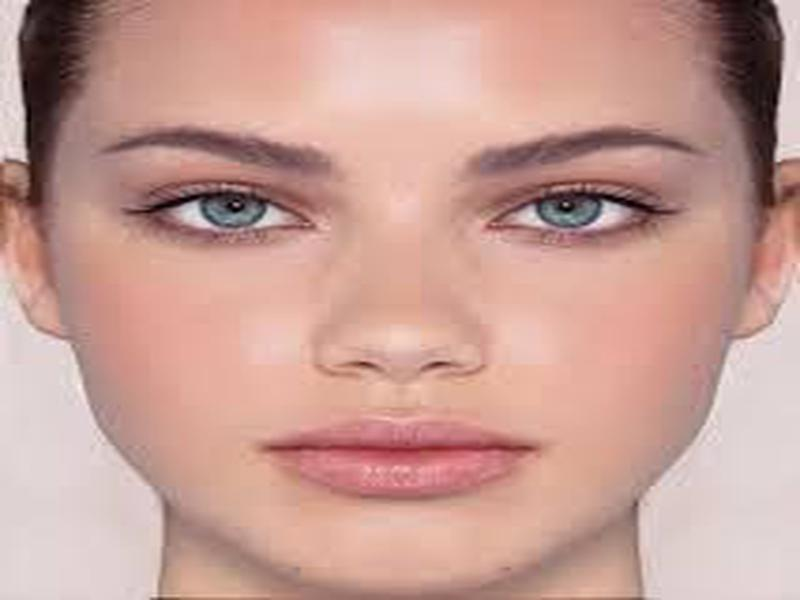without_mask: (48, 4, 761, 600)
